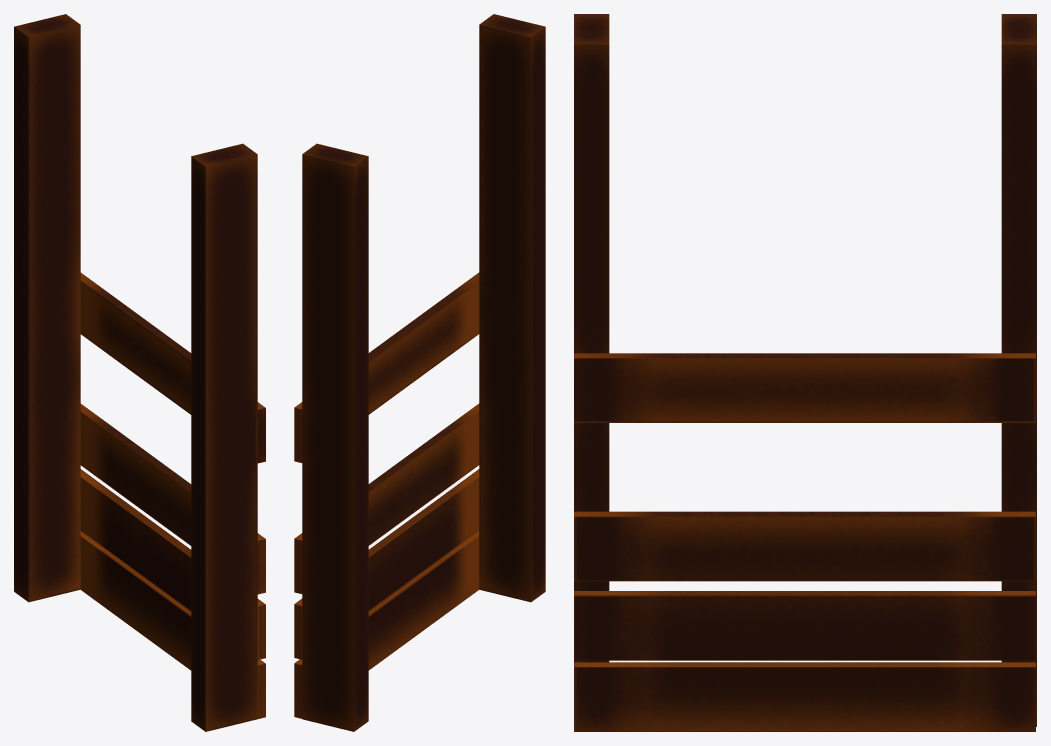
The model's file is Maderia_Entrada.001.fbx.
3 renders of one model, left to right at view 1: azimuth 30°, elevation 25°; view 2: azimuth 150°, elevation 25°; view 3: azimuth 270°, elevation 25°, orthographic. The views are drawn at different scales.
Parts seen in each view (by area): view 1: Maderia_Entrada.001; view 2: Maderia_Entrada.001; view 3: Maderia_Entrada.001.
Part boxes in pixels (left/top/right/bottom): Maderia_Entrada.001: left=14, top=14, right=265, bottom=731; Maderia_Entrada.001: left=294, top=14, right=545, bottom=731; Maderia_Entrada.001: left=574, top=14, right=1036, bottom=731.
Bounding box in the file's own units: 89.96 × 807 × 496.
